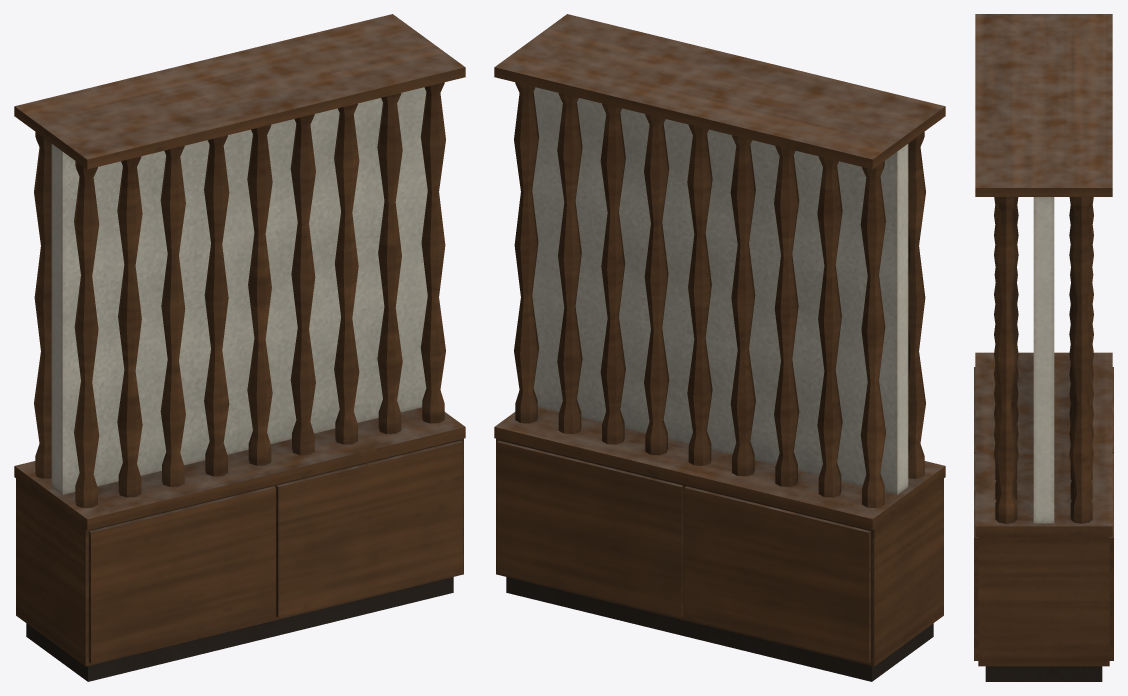
The model's file is H_SlatScreen.fbx.
3 renders of one model, left to right at view 1: azimuth 30°, elevation 25°; view 2: azimuth 150°, elevation 25°; view 3: azimuth 270°, elevation 25°, orthographic. The views are drawn at different scales.
Visible parts, largest first — view 1: H_SlatScreen; view 2: H_SlatScreen; view 3: H_SlatScreen.
Part boxes in pixels (x1,y1,x2,y2): H_SlatScreen: [14, 14, 465, 681]; H_SlatScreen: [494, 14, 945, 681]; H_SlatScreen: [974, 14, 1113, 681].
Size of the model in its own units: 600 by 800 by 204.
Materials: 1 (1 with a texture image).
